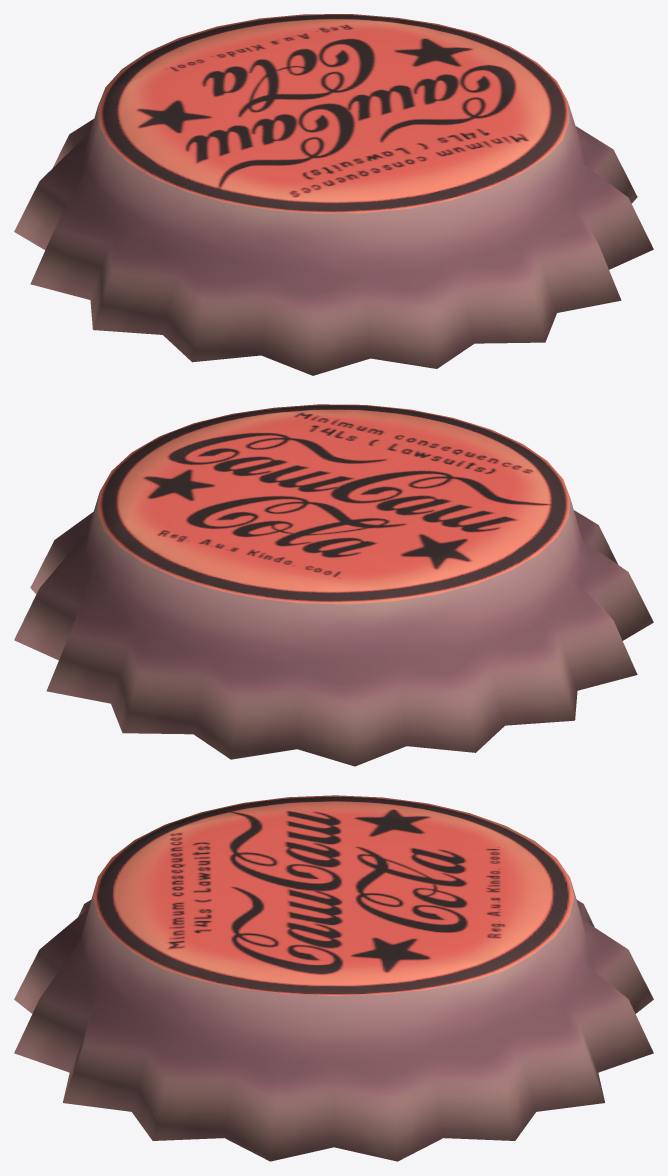
The model's file is BottleCap_CC.fbx.
The picture shows the model from 3 angles, top to bottom: view 1: azimuth 30°, elevation 25°; view 2: azimuth 150°, elevation 25°; view 3: azimuth 270°, elevation 25°; orthographic projection.
Parts seen in each view (by area): view 1: BottleCap_CC; view 2: BottleCap_CC; view 3: BottleCap_CC.
Boxes of the visible parts, box(x1,y1,x2,y2) form: BottleCap_CC: box(14, 14, 653, 375); BottleCap_CC: box(14, 404, 653, 766); BottleCap_CC: box(14, 795, 653, 1161).
Size of the model in its own units: 512 by 122 by 512.
